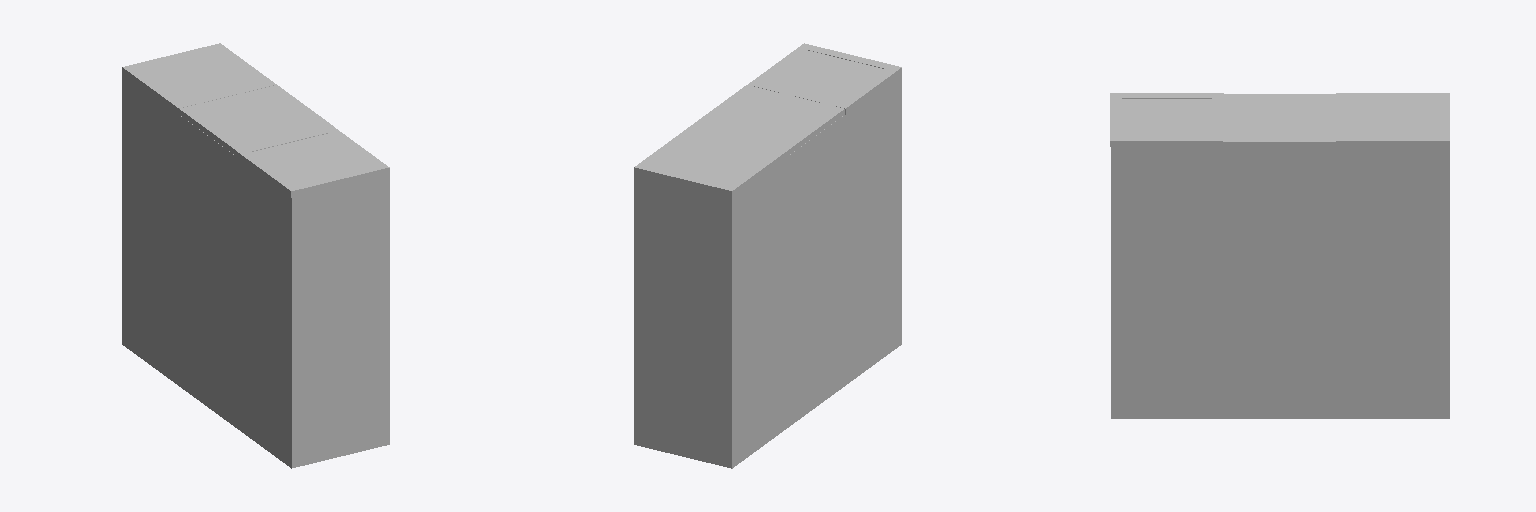
The model's file is prullenbak.obj.
The picture shows the model from 3 angles: view 1: azimuth 30°, elevation 25°; view 2: azimuth 150°, elevation 25°; view 3: azimuth 270°, elevation 25°; orthographic projection.
Parts seen in each view (by area): view 1: Cube, Cube.002_Cube.006, Cube.001_Cube.005, Cube.003_Cube.002, Cube.004_Cube.003, Cube.006_Cube.001; view 2: Cube.002_Cube.006, Cube, Cube.001_Cube.005, Cube.004_Cube.003, Cube.003_Cube.002, Cube.006_Cube.001; view 3: Cube, Cube.002_Cube.006, Cube.001_Cube.005, Cube.003_Cube.002, Cube.004_Cube.003, Cube.006_Cube.001.
Part boxes in pixels (left/top/right/bottom): Cube: left=235, top=133, right=389, bottom=468; Cube.002_Cube.006: left=122, top=57, right=244, bottom=385; Cube.001_Cube.005: left=179, top=97, right=307, bottom=426; Cube.003_Cube.002: left=179, top=85, right=332, bottom=154; Cube.004_Cube.003: left=122, top=43, right=276, bottom=113; Cube.006_Cube.001: left=235, top=126, right=389, bottom=197; Cube.002_Cube.006: left=634, top=139, right=788, bottom=468; Cube: left=764, top=51, right=901, bottom=385; Cube.001_Cube.005: left=720, top=96, right=844, bottom=426; Cube.004_Cube.003: left=634, top=126, right=788, bottom=196; Cube.003_Cube.002: left=691, top=85, right=844, bottom=154; Cube.006_Cube.001: left=748, top=43, right=901, bottom=114; Cube: left=1111, top=99, right=1223, bottom=418; Cube.002_Cube.006: left=1336, top=100, right=1449, bottom=418; Cube.001_Cube.005: left=1223, top=100, right=1336, bottom=418; Cube.003_Cube.002: left=1223, top=94, right=1335, bottom=147; Cube.004_Cube.003: left=1336, top=93, right=1449, bottom=146; Cube.006_Cube.001: left=1110, top=93, right=1223, bottom=146.
Size of the model in its own units: 0.6036 by 1.62 by 1.8.